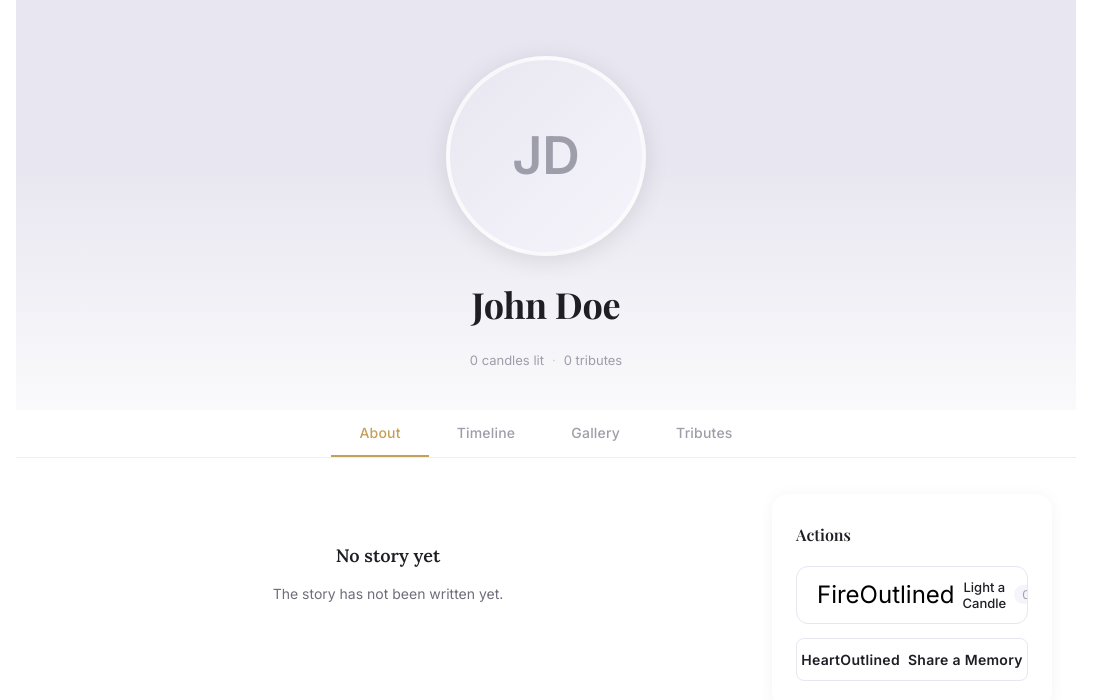
Test: MemorialPage › shows Add Photo for a logged-in viewer when uploads are enabled
Click the tab "Gallery". click: (596, 434)
box: [543,410,648,457]
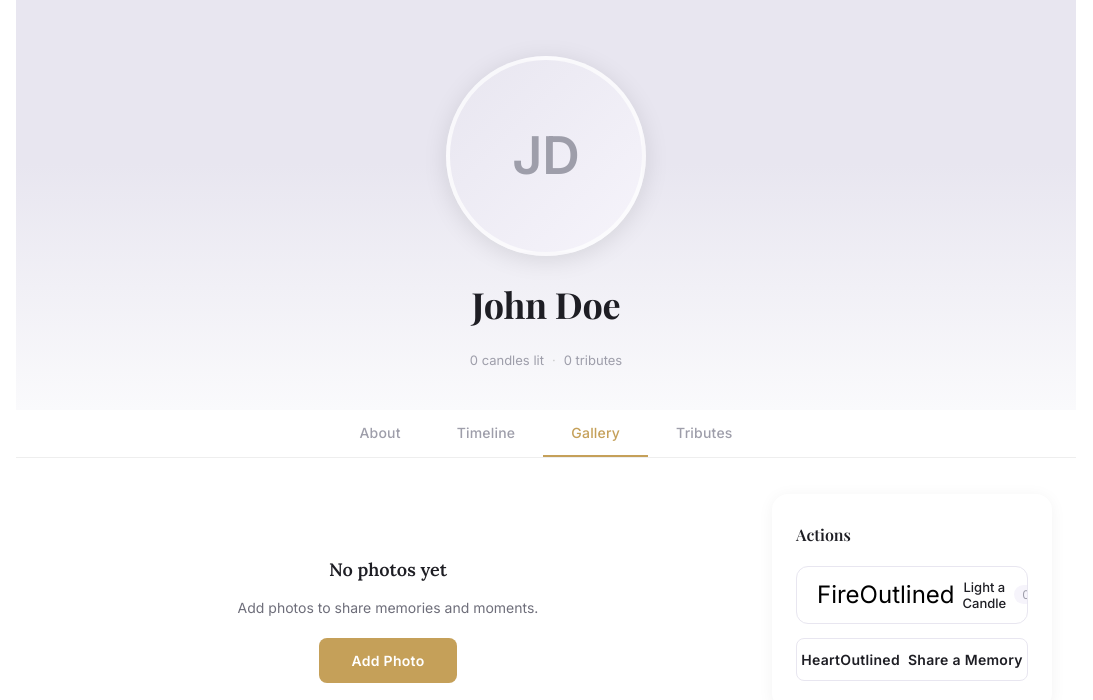
expect the button "Add Photo" is shown: met, box [319,638,456,683]
